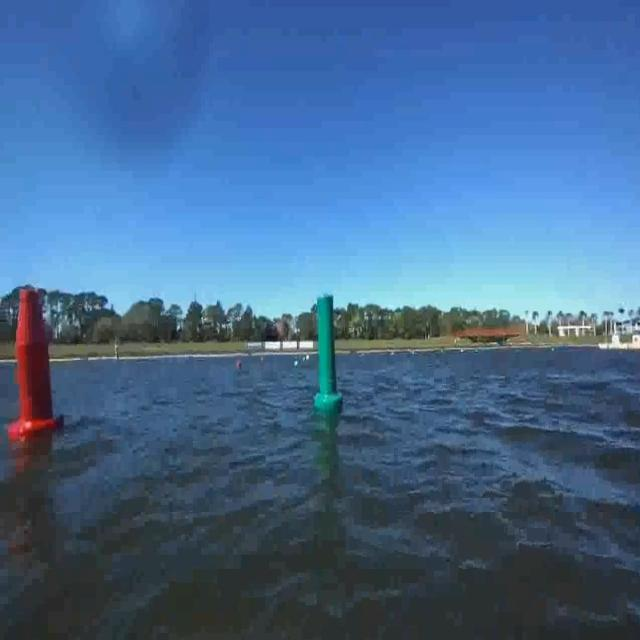green-column-buoy: (313, 290, 343, 411)
red-column-buoy: (8, 286, 61, 441)
